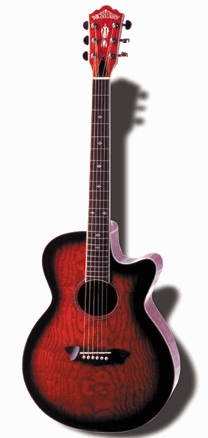guitar: (20, 4, 182, 433)
